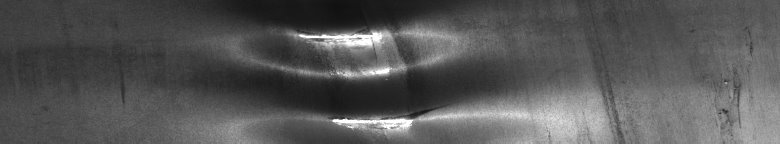ke: (251, 20, 484, 136)
